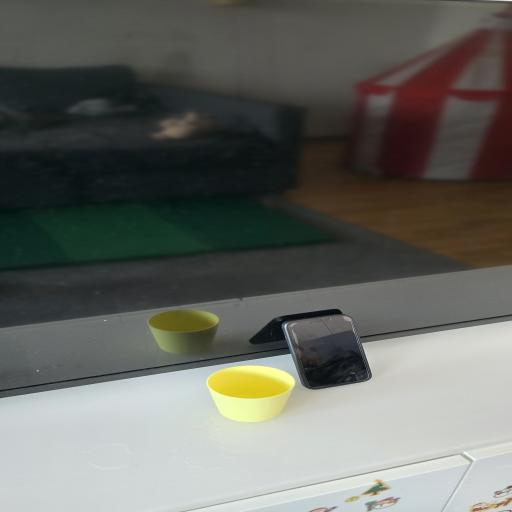phone: (288, 308, 395, 392)
